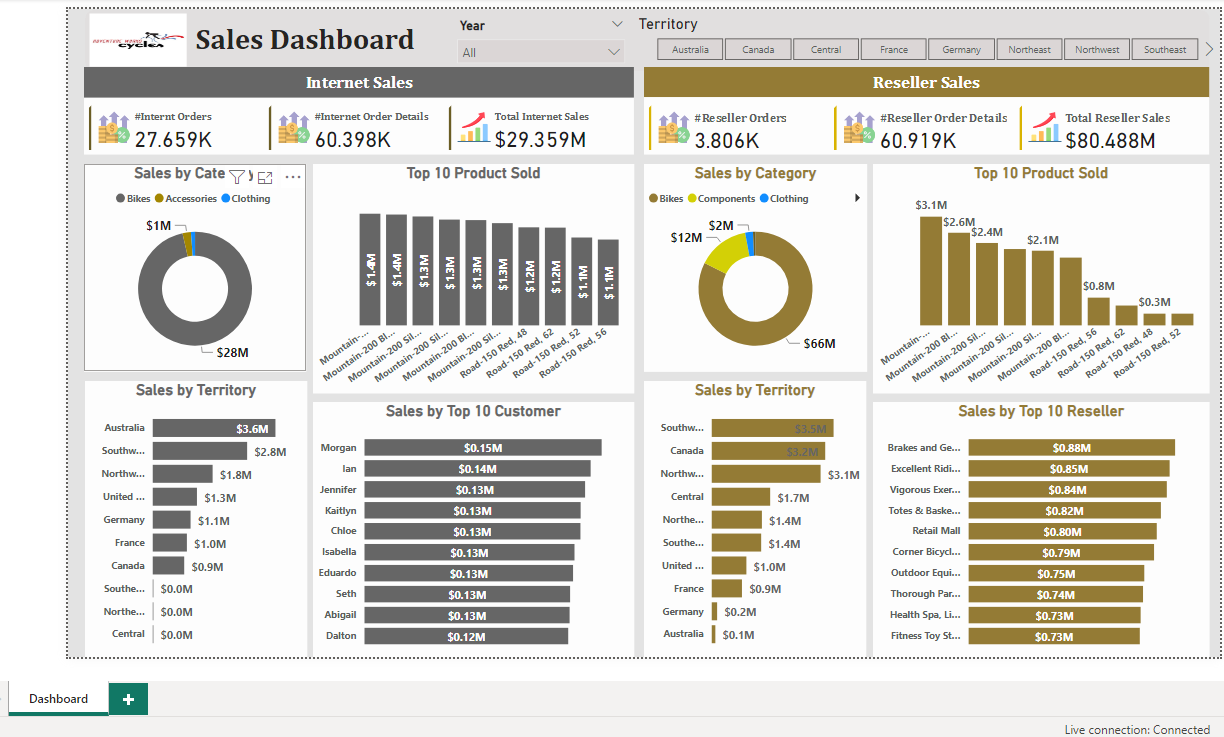

This screenshot's page, from the dashboard's own definition file:
{"tool":"powerbi","page":{"name":"Dashboard","canvas":[1280,720],"ordinal":0},"visuals":[{"type":"shape","box":[18.5,1.2,1249.6,68.1],"z":0},{"type":"textbox","box":[136.2,9.2,271.2,60],"z":1000},{"type":"image","box":[18.5,0,117.7,69.2],"z":2000},{"type":"cardVisual","fields":{"Data":["DAX Measures.#Internt Orders","DAX Measures.#Internet Order Details","DAX Measures.Total Internet Sales"]},"box":[18.2,98.3,611,64.1],"z":3000},{"type":"clusteredBarChart","title":"Sales by Territory","fields":{"Category":["Sales DimTerritory.Territory"],"Y":["DAX Measures.Total Internet Sales"]},"box":[18.5,413.1,246.9,306.9],"z":4000},{"type":"clusteredBarChart","title":"Sales by Top 10 Customer","fields":{"Y":["DAX Measures.Total Internet Sales"],"Category":["Sales DimCustomer.FirstName"]},"box":[272.3,436.2,356.5,283.8],"z":5000},{"type":"donutChart","title":"Sales by Category","fields":{"Category":["Sales DimProduct.Cat SubCat Product.Category"],"Y":["DAX Measures.Total Internet Sales"]},"box":[18.2,172,246.8,230.7],"z":6000},{"type":"clusteredColumnChart","title":"Top 10 Product Sold","fields":{"Category":["Sales DimProduct.Cat SubCat Product.Product"],"Y":["DAX Measures.Total Internet Sales"]},"box":[272.4,172,356.8,255.3],"z":7000},{"type":"slicer","fields":{"Values":["DimDate.Year Month Day.Year"]},"box":[422,5.3,207.2,64.1],"z":8000},{"type":"slicer","title":"Territory","fields":{"Values":["Sales DimTerritory.Territory"]},"box":[629.2,6.4,650.6,56.6],"z":9000},{"type":"clusteredBarChart","title":"Sales by Territory","fields":{"Category":["Sales DimTerritory.Territory"],"Y":["DAX Measures.Total Reseller Sales"]},"box":[640.4,413.1,246.9,306.9],"z":10000},{"type":"clusteredBarChart","title":"Sales by Top 10 Reseller","fields":{"Y":["DAX Measures.Total Reseller Sales"],"Category":["Sales DimReseller.Reseller"]},"box":[894.2,436.2,373.8,283.8],"z":11000},{"type":"donutChart","title":"Sales by Category","fields":{"Category":["Sales DimProduct.Cat SubCat Product.Category"],"Y":["DAX Measures.Total Reseller Sales"]},"box":[639.9,172,247.8,230.7],"z":12000},{"type":"clusteredColumnChart","title":"Top 10 Product Sold","fields":{"Category":["Sales DimProduct.Cat SubCat Product.Product"],"Y":["DAX Measures.Total Reseller Sales"]},"box":[894.1,172,373.9,255.3],"z":13000},{"type":"textbox","box":[18.2,64.1,611,34.2],"z":14000},{"type":"textbox","box":[639.9,64.1,628.1,34.2],"z":15000},{"type":"cardVisual","fields":{"Data":["DAX Measures.#Reseller Orders","DAX Measures.#Reseller Order Details","DAX Measures.Total Reseller Sales"]},"box":[639.9,98.3,628.1,64.1],"z":16000}]}

Visuals, with their boxes on the page's 1280x720 design canvas (x1, y1, x2, y2). These are canvas units, not pixel positions in the 1224x737 screenshot, which may show the page scaled, cropped or inside an application window:
shape: x1=18, y1=1, x2=1268, y2=69
textbox: x1=136, y1=9, x2=407, y2=69
image: x1=18, y1=0, x2=136, y2=69
cardVisual - DAX Measures.#Internt Orders x DAX Measures.#Internet Order Details: x1=18, y1=98, x2=629, y2=162
"Sales by Territory" clusteredBarChart: x1=18, y1=413, x2=265, y2=720
"Sales by Top 10 Customer" clusteredBarChart: x1=272, y1=436, x2=629, y2=720
"Sales by Category" donutChart: x1=18, y1=172, x2=265, y2=403
"Top 10 Product Sold" clusteredColumnChart: x1=272, y1=172, x2=629, y2=427
slicer - DimDate.Year Month Day.Year: x1=422, y1=5, x2=629, y2=69
"Territory" slicer: x1=629, y1=6, x2=1280, y2=63
"Sales by Territory" clusteredBarChart: x1=640, y1=413, x2=887, y2=720
"Sales by Top 10 Reseller" clusteredBarChart: x1=894, y1=436, x2=1268, y2=720
"Sales by Category" donutChart: x1=640, y1=172, x2=888, y2=403
"Top 10 Product Sold" clusteredColumnChart: x1=894, y1=172, x2=1268, y2=427
textbox: x1=18, y1=64, x2=629, y2=98
textbox: x1=640, y1=64, x2=1268, y2=98
cardVisual - DAX Measures.#Reseller Orders x DAX Measures.#Reseller Order Details: x1=640, y1=98, x2=1268, y2=162
